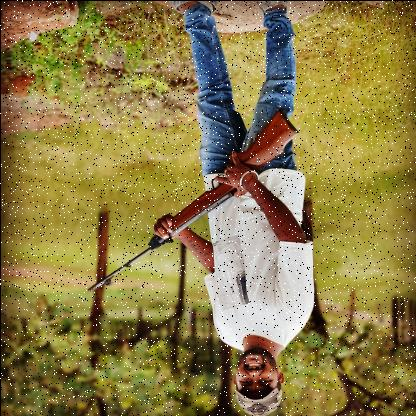rifle: (84, 105, 300, 292)
